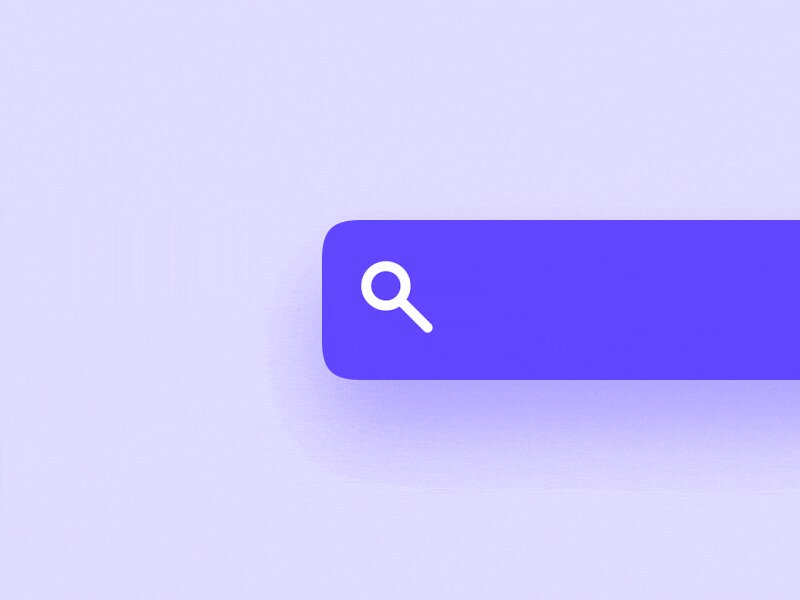search_box: (327, 223, 791, 378)
